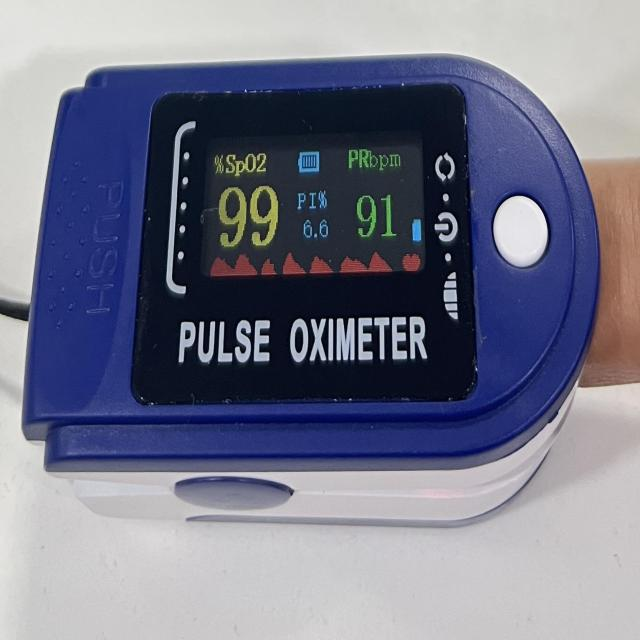spo2: (22, 55, 601, 529)
